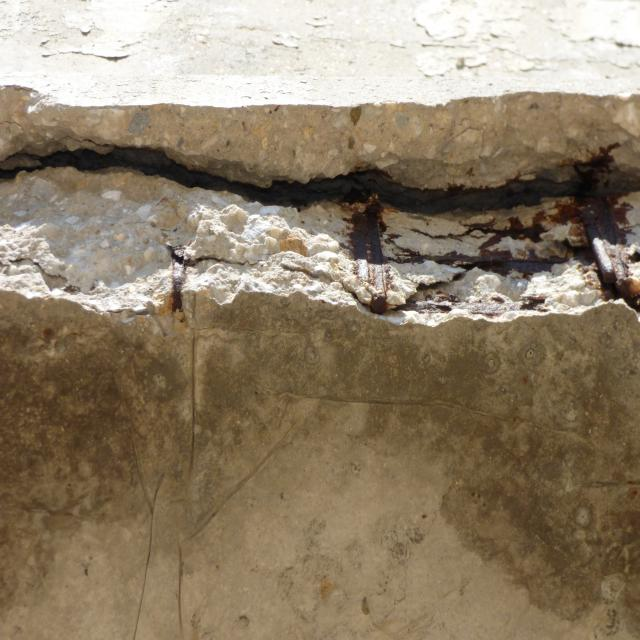corrosion: (0, 127, 640, 222), (328, 202, 640, 334), (148, 238, 233, 332)
